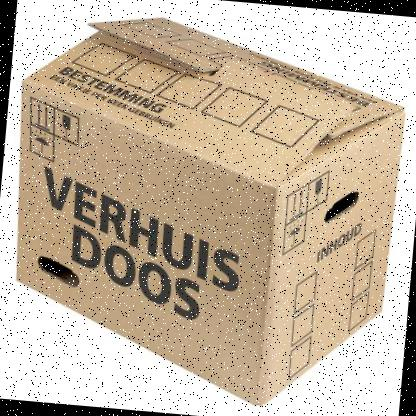box: (16, 17, 405, 406)
normal_hole: (38, 255, 80, 287), (324, 191, 360, 223)
